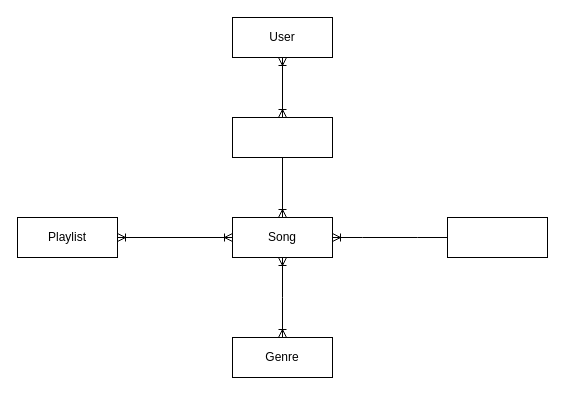
This 565x395 diagram has some shape labels left out. Each missing label, with the centre of its shape:
"Album" goes at (x=497, y=237).
"Artist" goes at (x=282, y=137).
